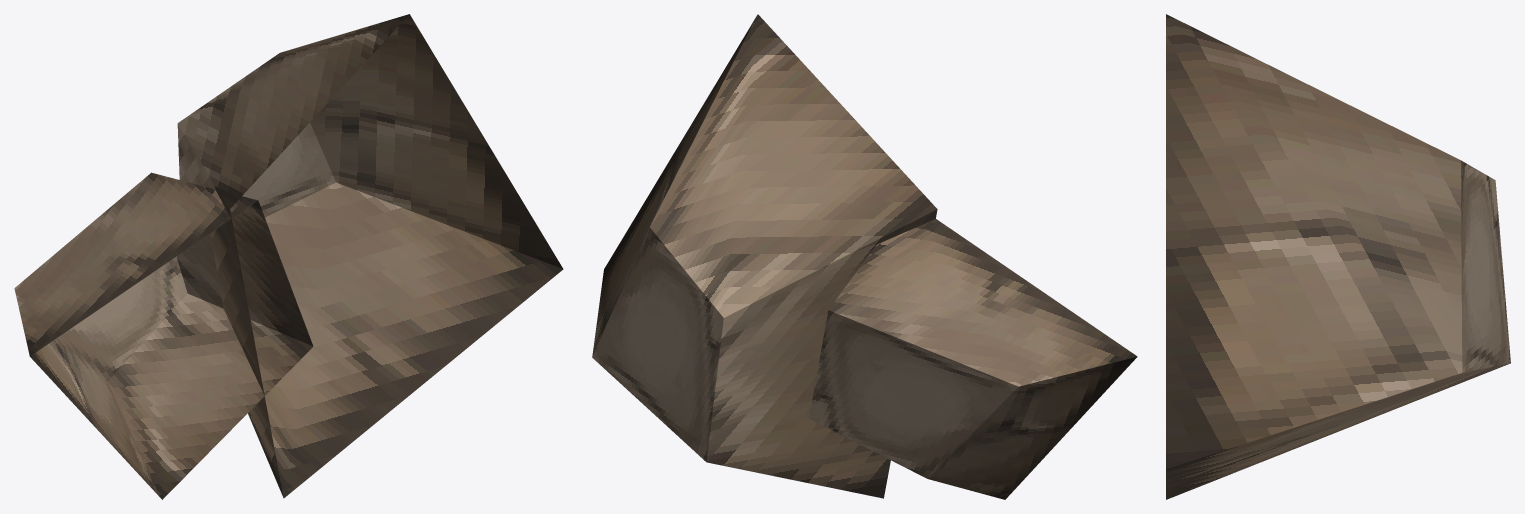
File: Rock 05.FBX
3 views of the same model, side by side, from view 1: azimuth 30°, elevation 25°; view 2: azimuth 150°, elevation 25°; view 3: azimuth 270°, elevation 25° (orthographic). The views are drawn at different scales.
Parts seen in each view (by area): view 1: env_rock05; view 2: env_rock05; view 3: env_rock05.
Boxes of the visible parts, x1,y1,x2,y2 form: env_rock05: (14,14,563,499); env_rock05: (592,14,1137,499); env_rock05: (1166,14,1510,499).
Bounding box in the file's own units: 45.27 × 36.79 × 20.46.
